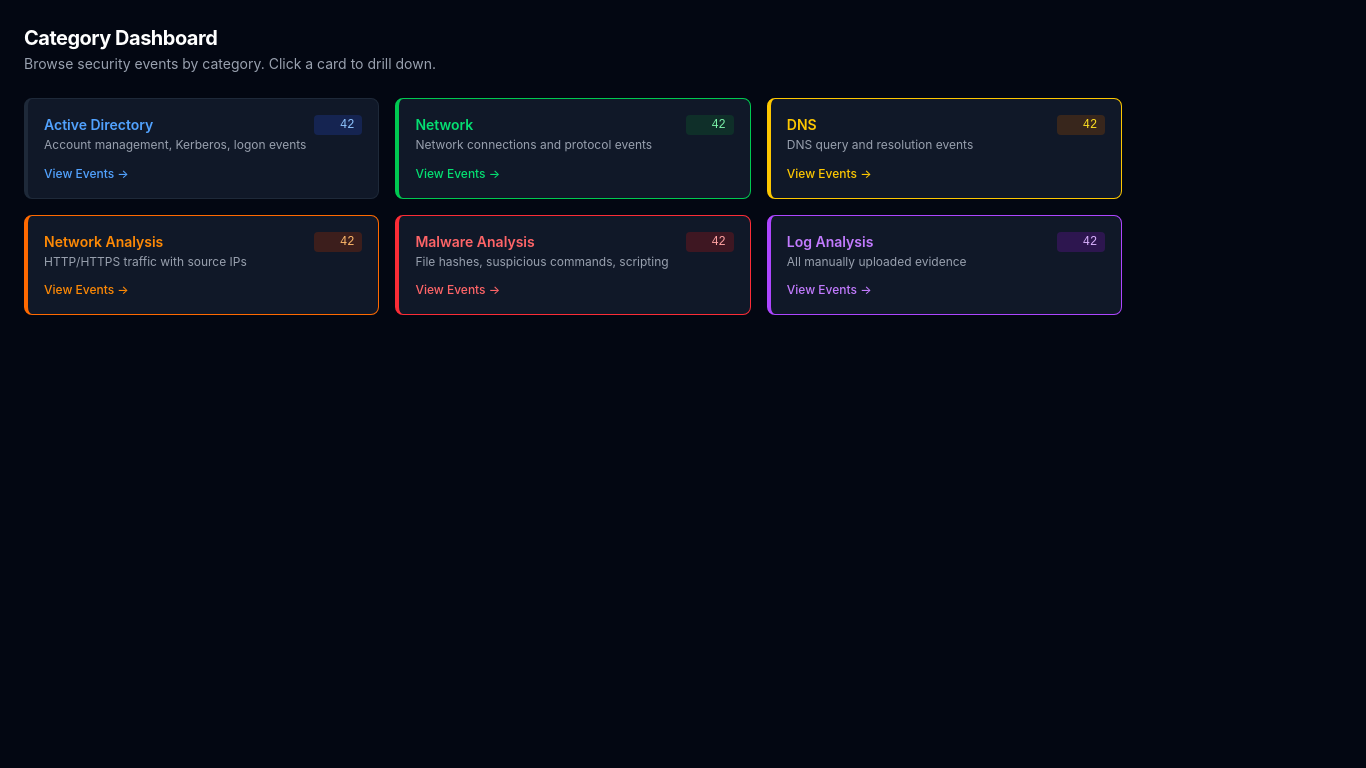
CategoryDashboardPage › truncation banner › does NOT show the truncation banner when fewer than 500 rows are returned
Click the heading "Active Directory" at point(99, 124), box left=44, top=116, right=153, bottom=133
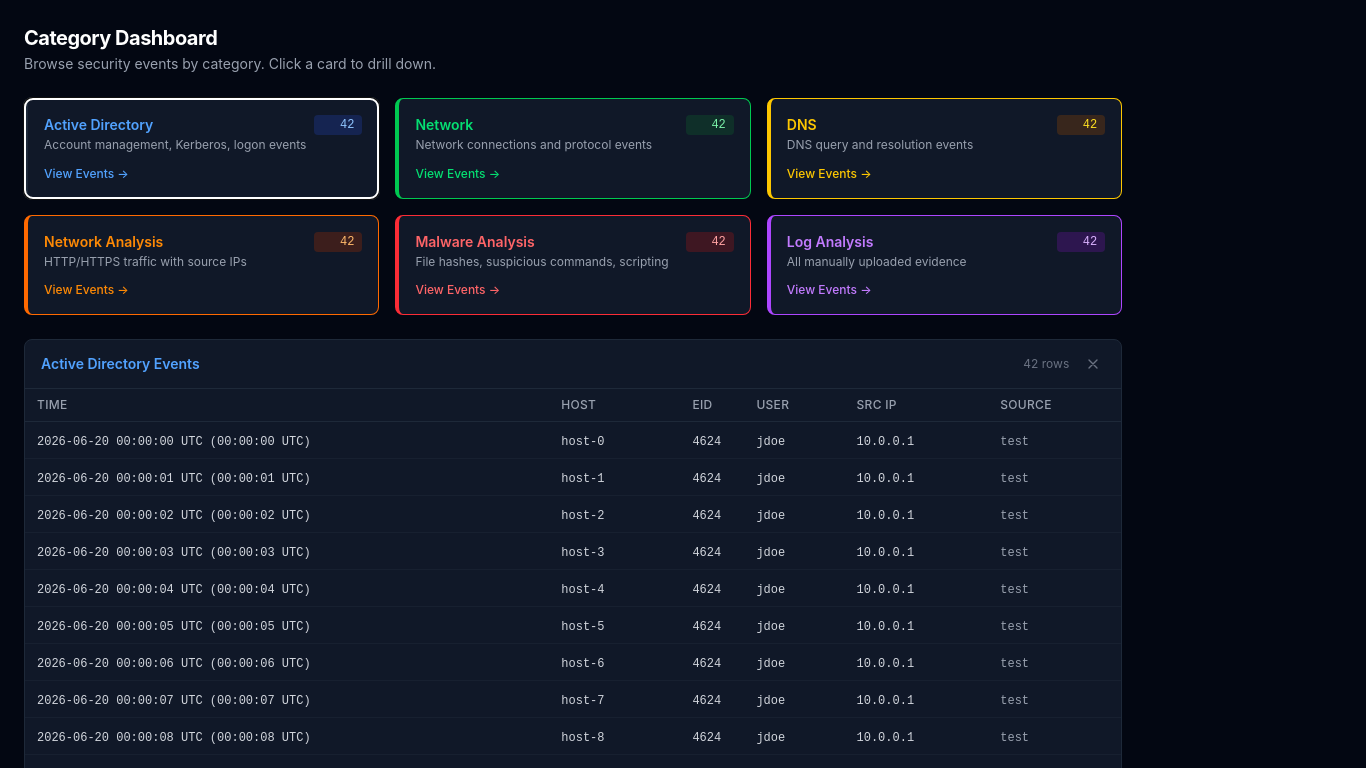
Now the text "42 rows" is shown, box left=1023, top=356, right=1069, bottom=372
